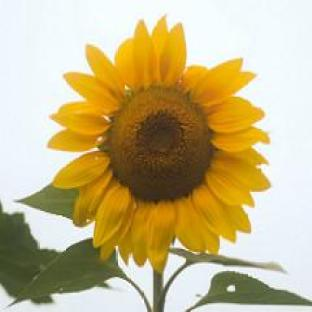sunflower: (45, 15, 272, 312)
